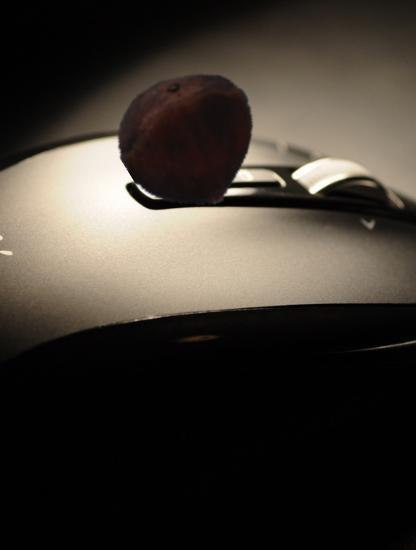Chestnut: (121, 70, 263, 212)
